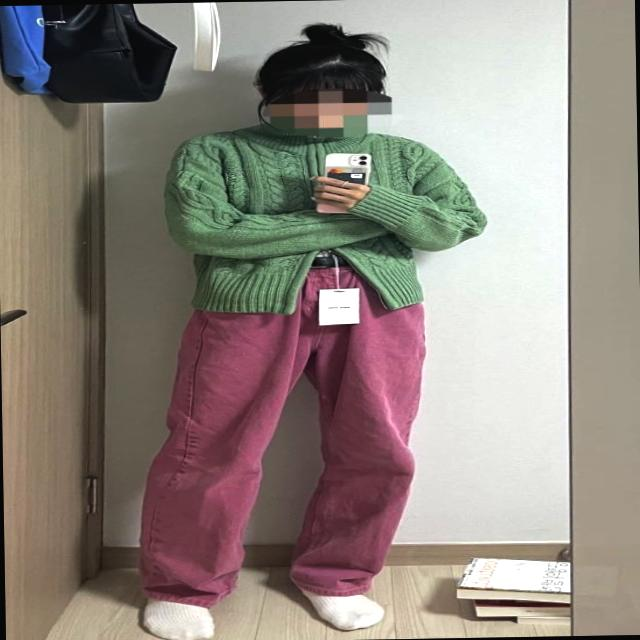cardigan: (164, 116, 490, 320)
denimpants: (137, 256, 428, 610)
